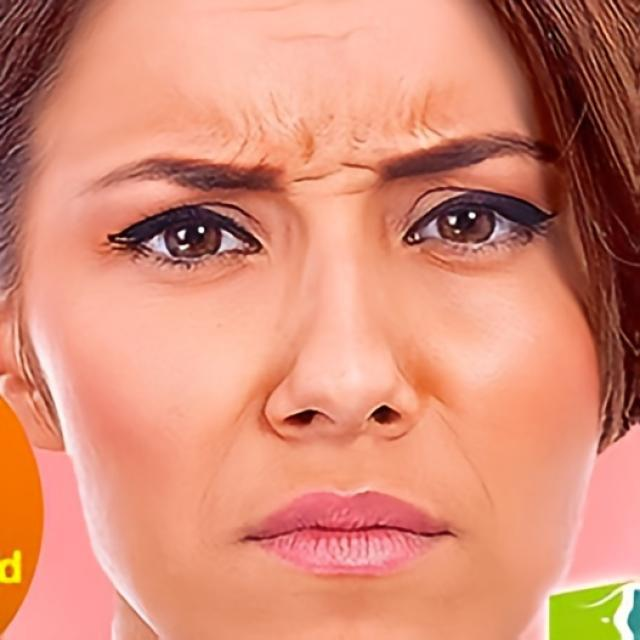anger: (29, 0, 614, 640)
